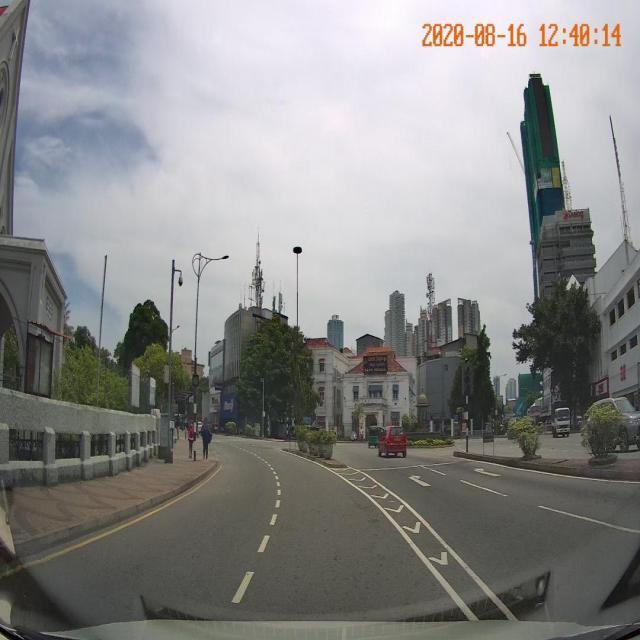Strelka vpravo: (408, 475, 432, 487), (472, 468, 502, 477)
